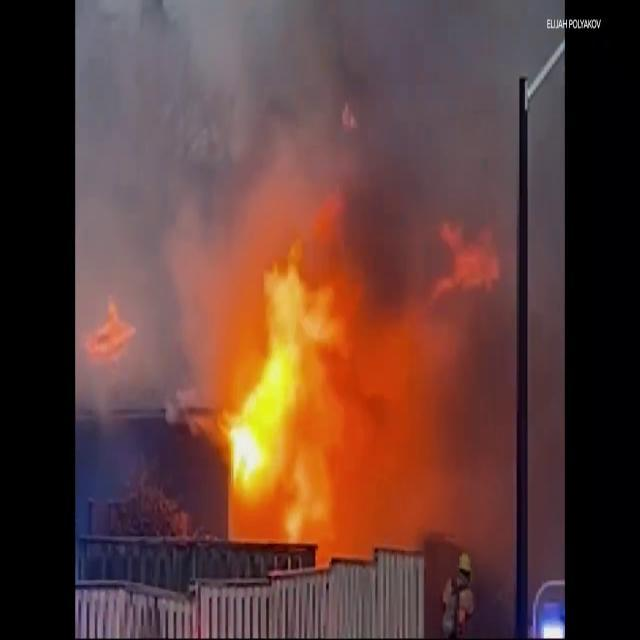Fire: (196, 224, 394, 534)
